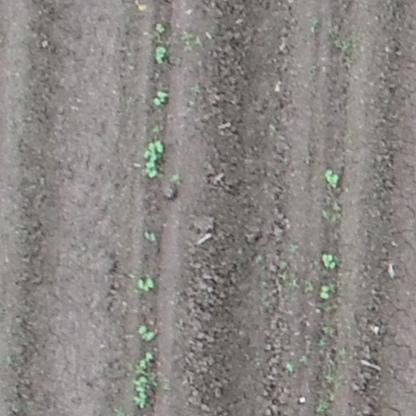vc: (141, 138, 164, 180), (320, 169, 344, 189), (137, 275, 155, 293), (153, 45, 169, 64), (138, 324, 155, 341), (138, 350, 155, 367), (322, 252, 338, 269), (285, 357, 299, 375), (142, 229, 158, 243), (318, 284, 333, 298), (156, 22, 168, 33)
